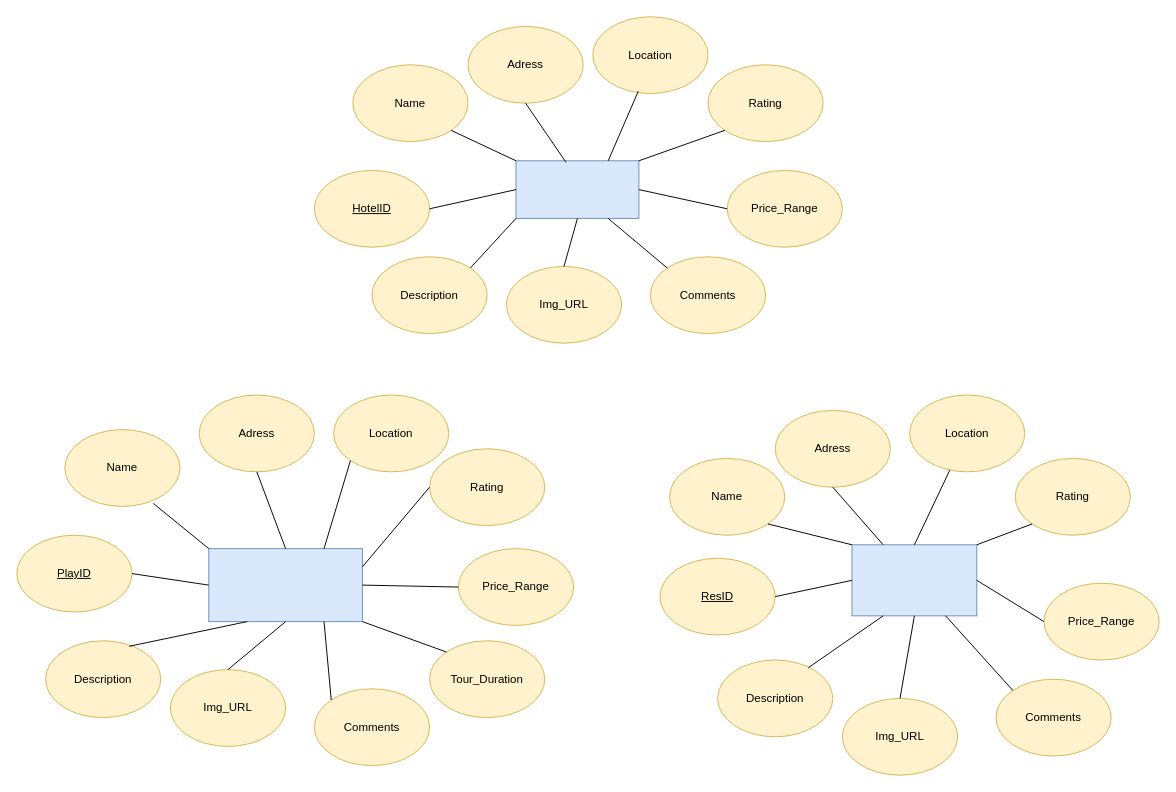
This 1176x792 diagram has some shape labels left out. Each missing label, with the box of its shape:
Hotel: (515, 160, 639, 218)
PlayPlace: (208, 548, 362, 622)
Restaurant: (851, 544, 977, 616)
